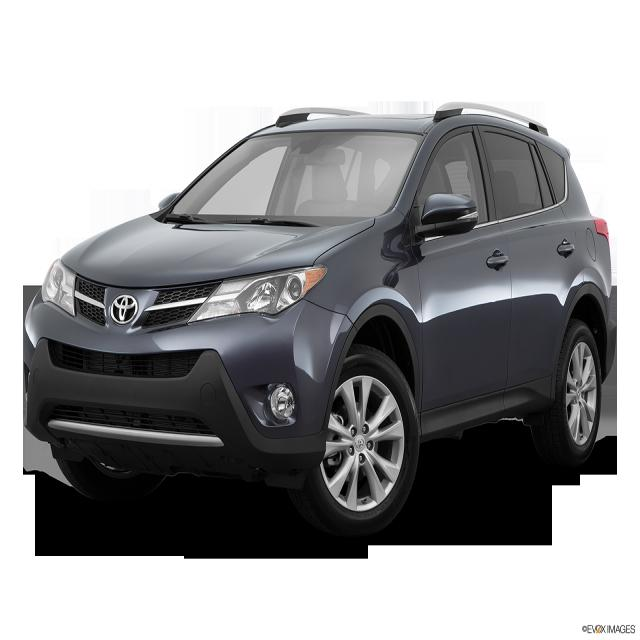light_vehicle: (26, 104, 617, 539)
